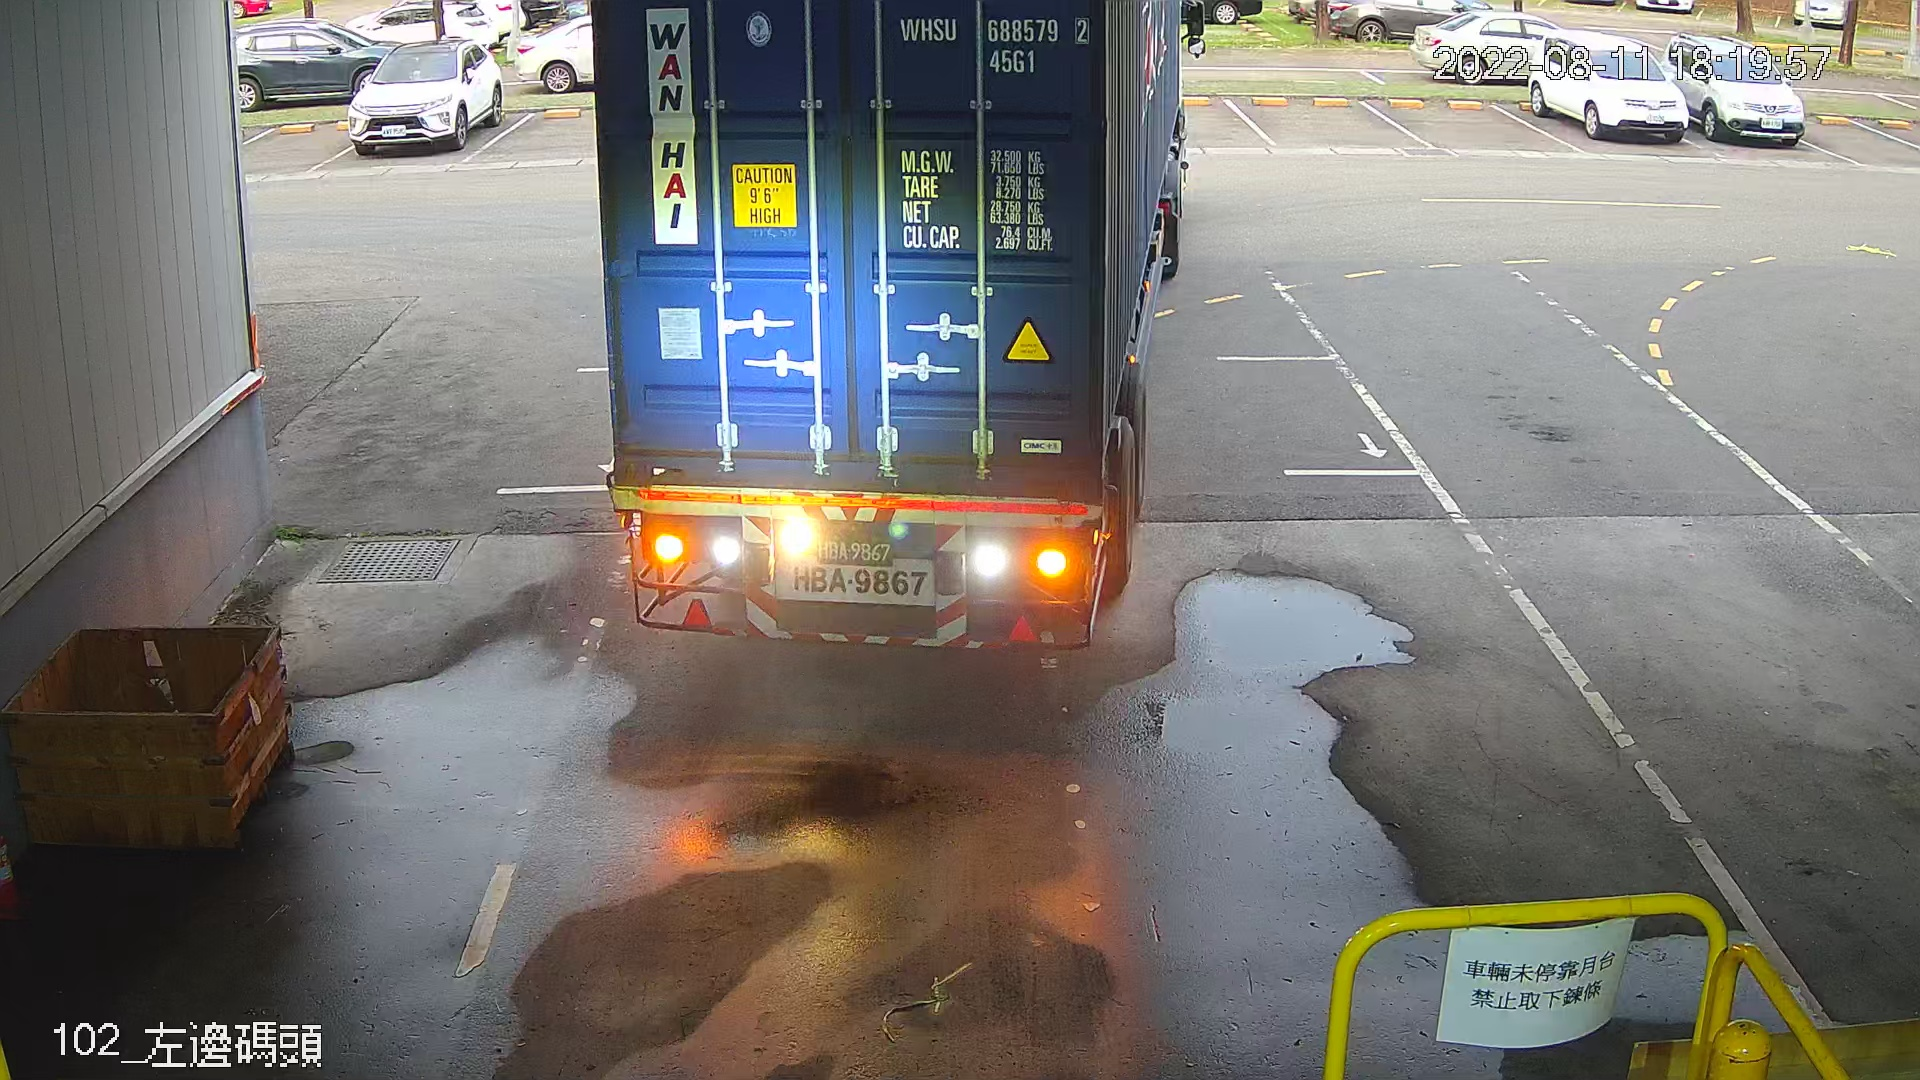container: (891, 5, 1097, 83)
